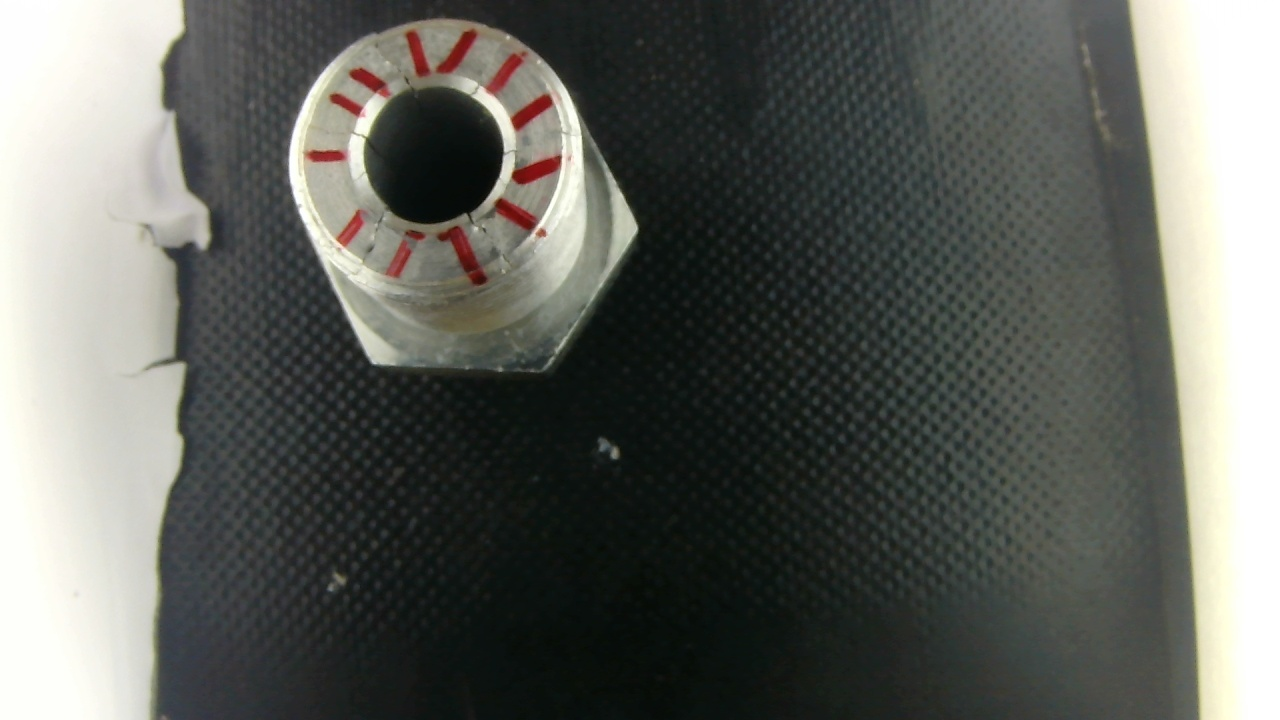crack: (366, 17, 421, 103)
